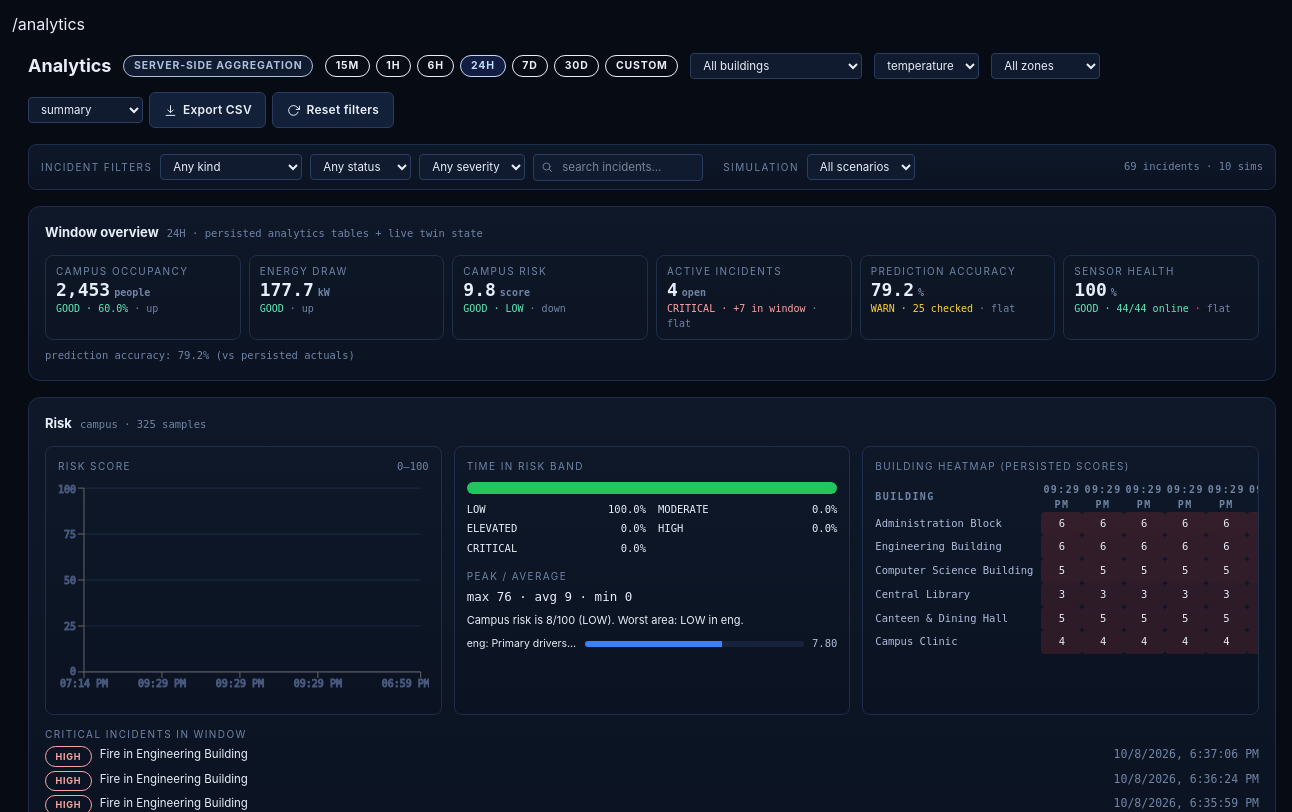
Test case: Analytics §62 — URL-persisted filters › offers a custom range with start/end inputs
Expected: the element with test id "section-window-overview" is shown, [28,206,1276,381]
Click the button with test id "range-CUSTOM" at (642, 66), box [605,55,678,77]
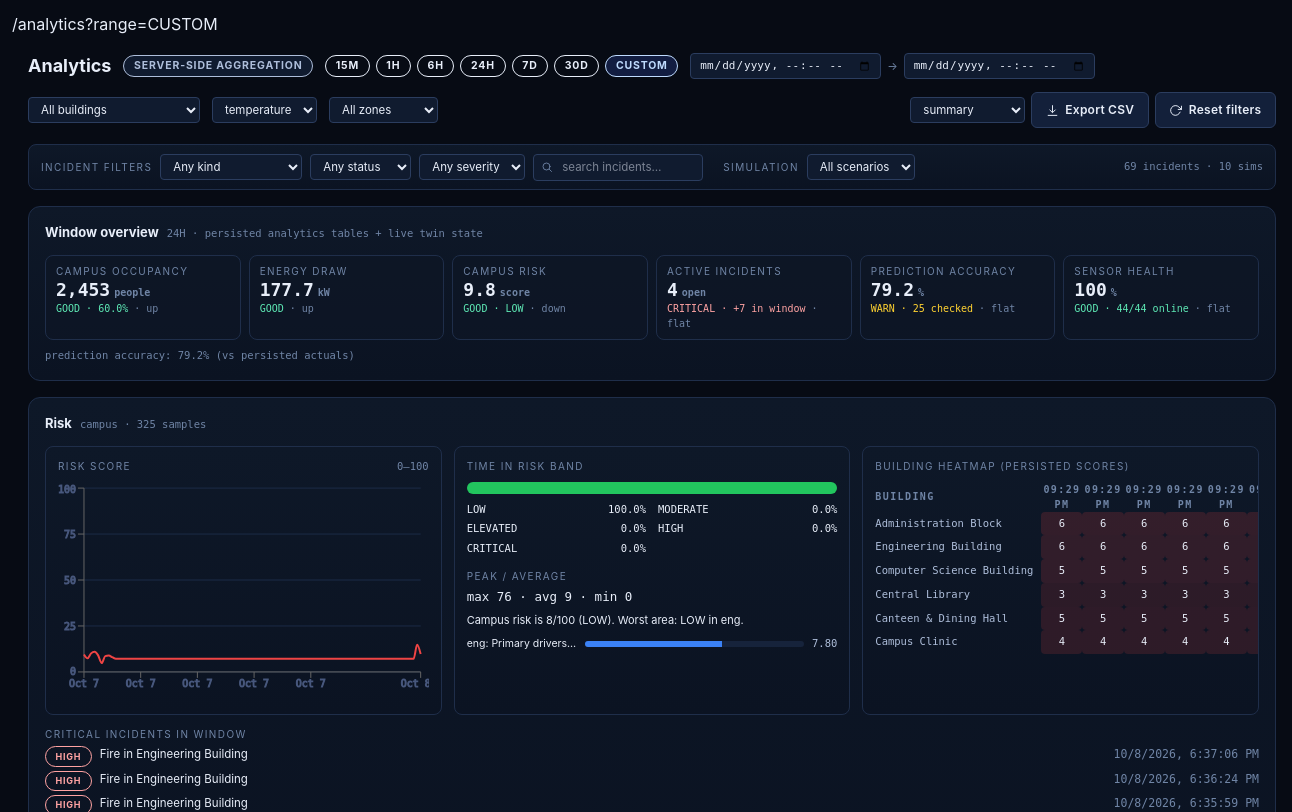
Result: the text with test id "loc" shows "range=CUSTOM" at [12,14,218,34]
Result: the field named "Window start" is shown at [690,53,881,79]
Result: the field named "Window end" is shown at [904,53,1095,79]
